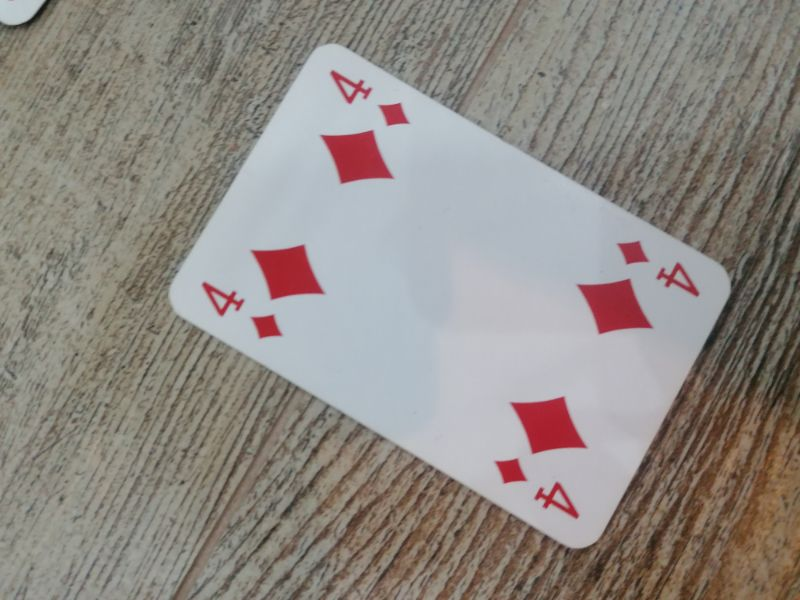4d: (491, 455, 585, 523), (198, 276, 288, 345), (325, 64, 415, 130), (614, 237, 706, 301)
